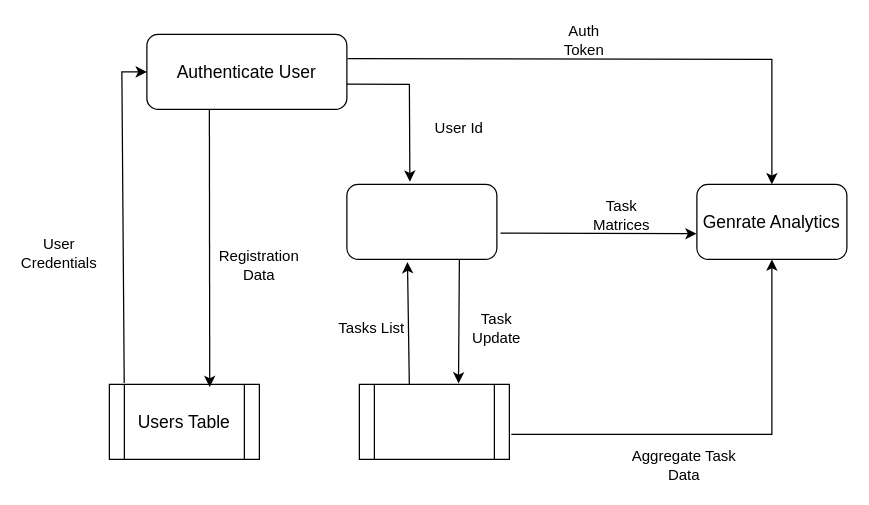
Some shapes in this 869 by 505 pixel diagram are drawn without their labels. The shapes that lost their labels are listed below. From the top down, each one's centre as x and y in pixels, then its label:
At point 421,221: "Manage Tasks".
At point 433,421: "Tasks Table".
